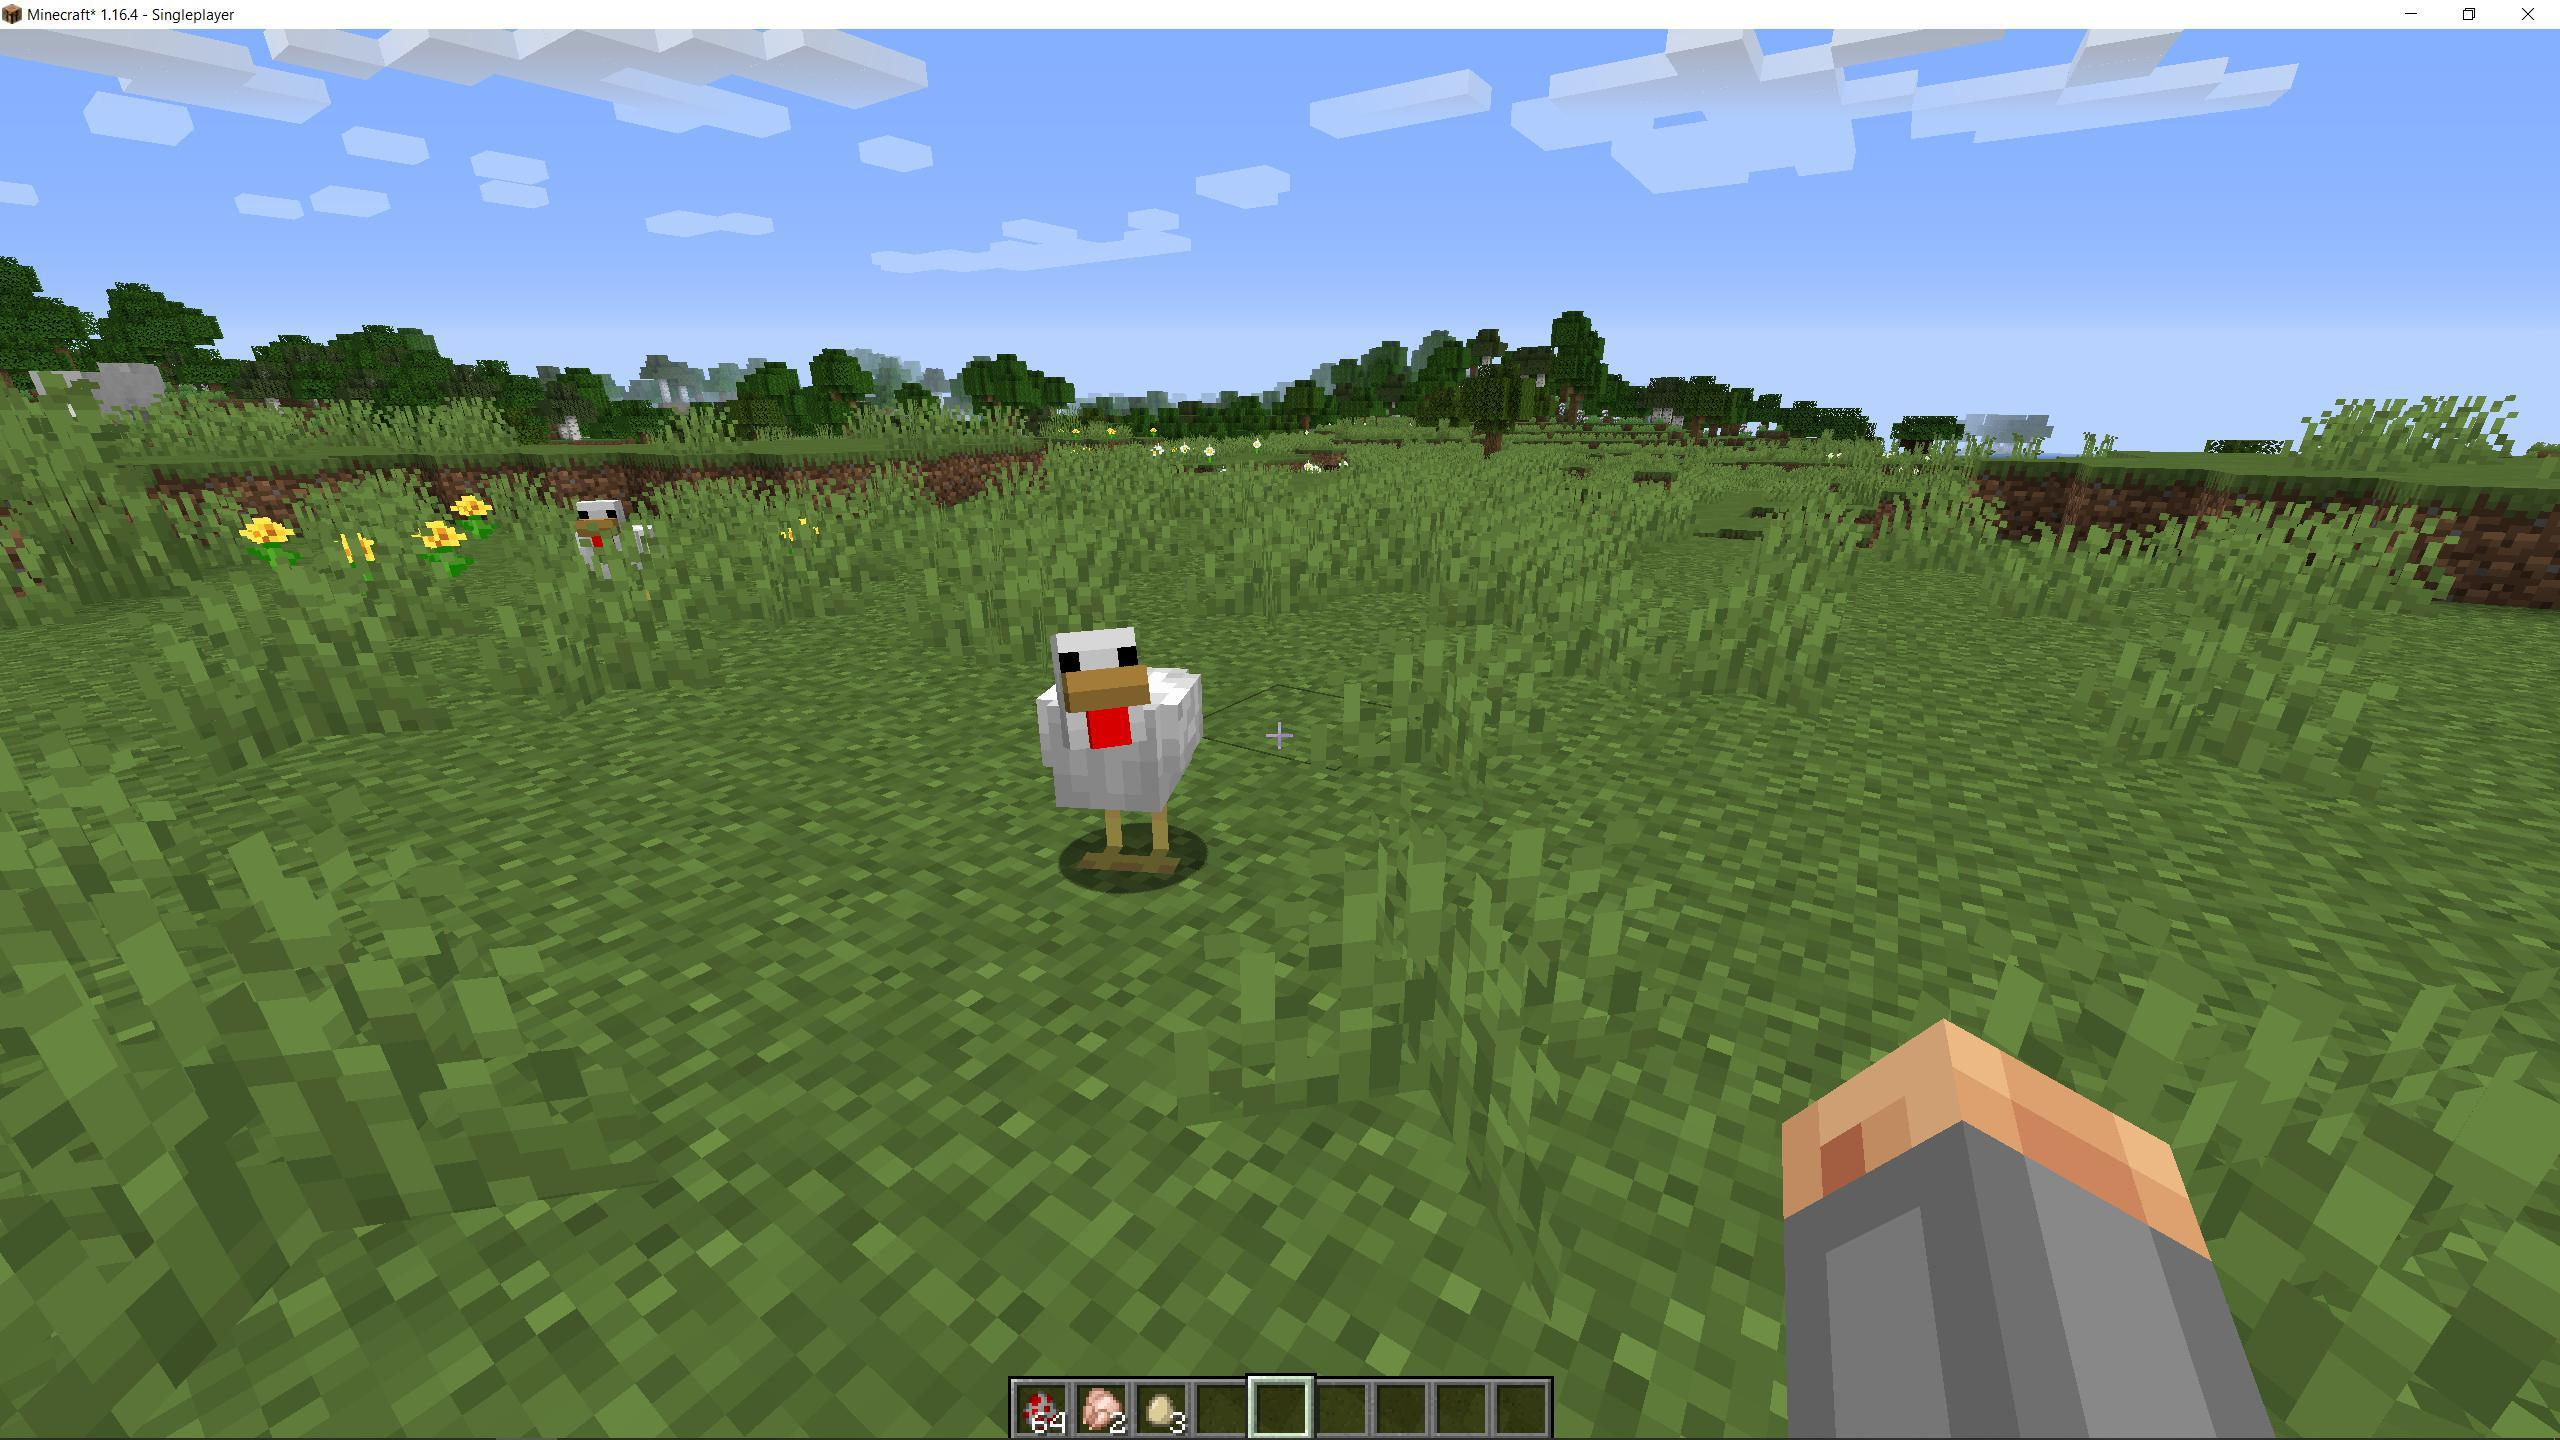chicken: (1020, 621, 1231, 886), (559, 487, 673, 621)
